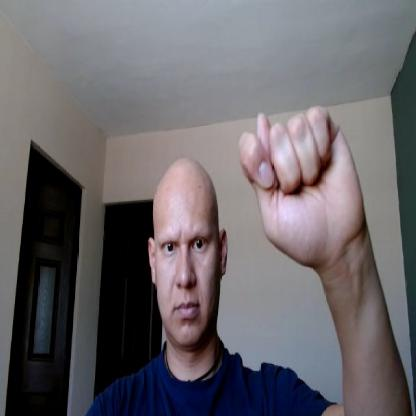T: (240, 107, 367, 261)
